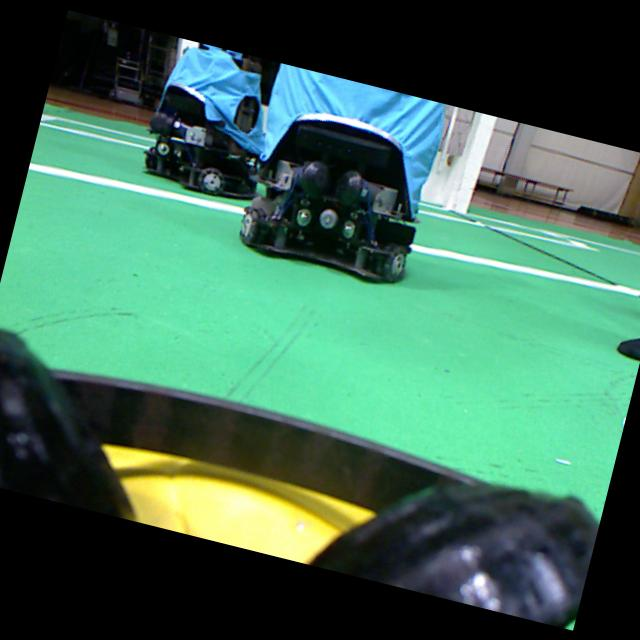ball: (102, 444, 373, 562)
goal: (450, 112, 495, 212)
